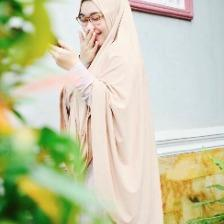HijabSyar-i: (58, 0, 165, 224)
